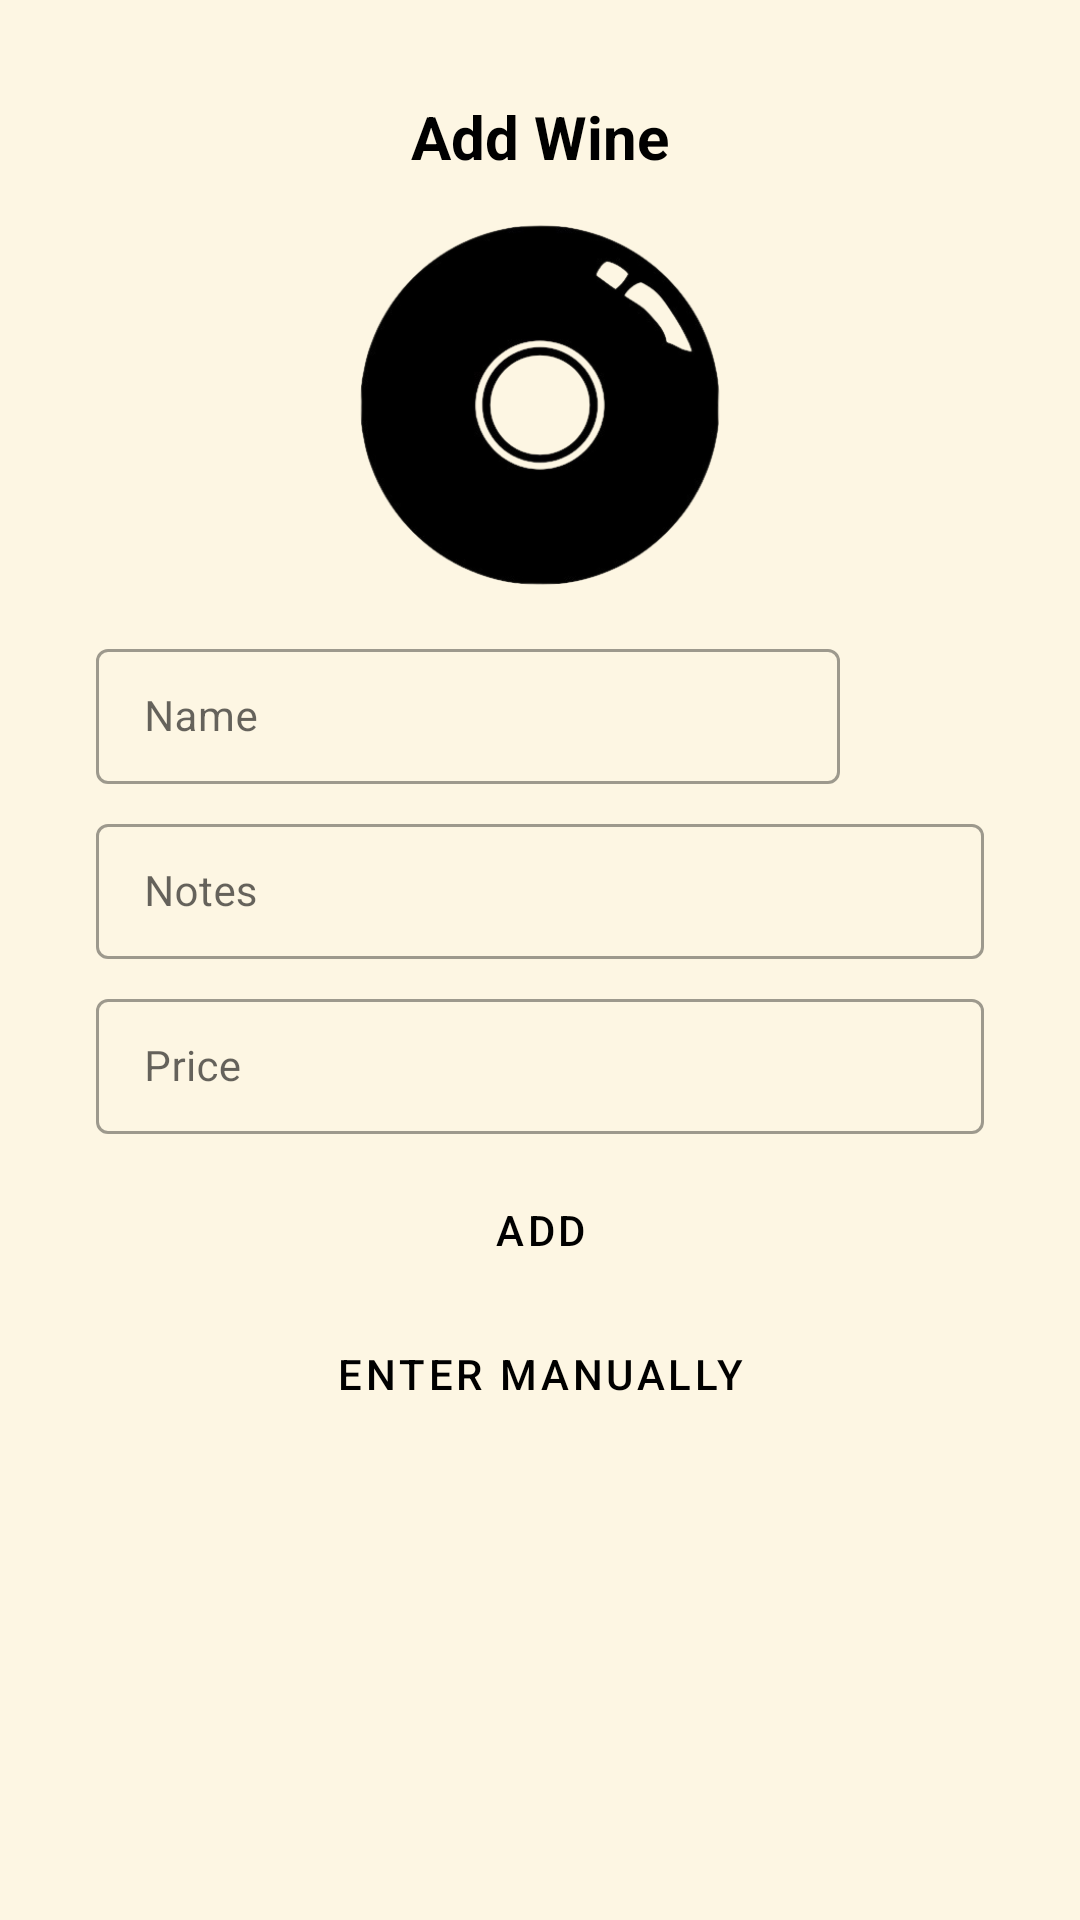

Point at icon controls on the screen. Image size 1080x1920, points as [x,y].
bottle front: [539,405]
